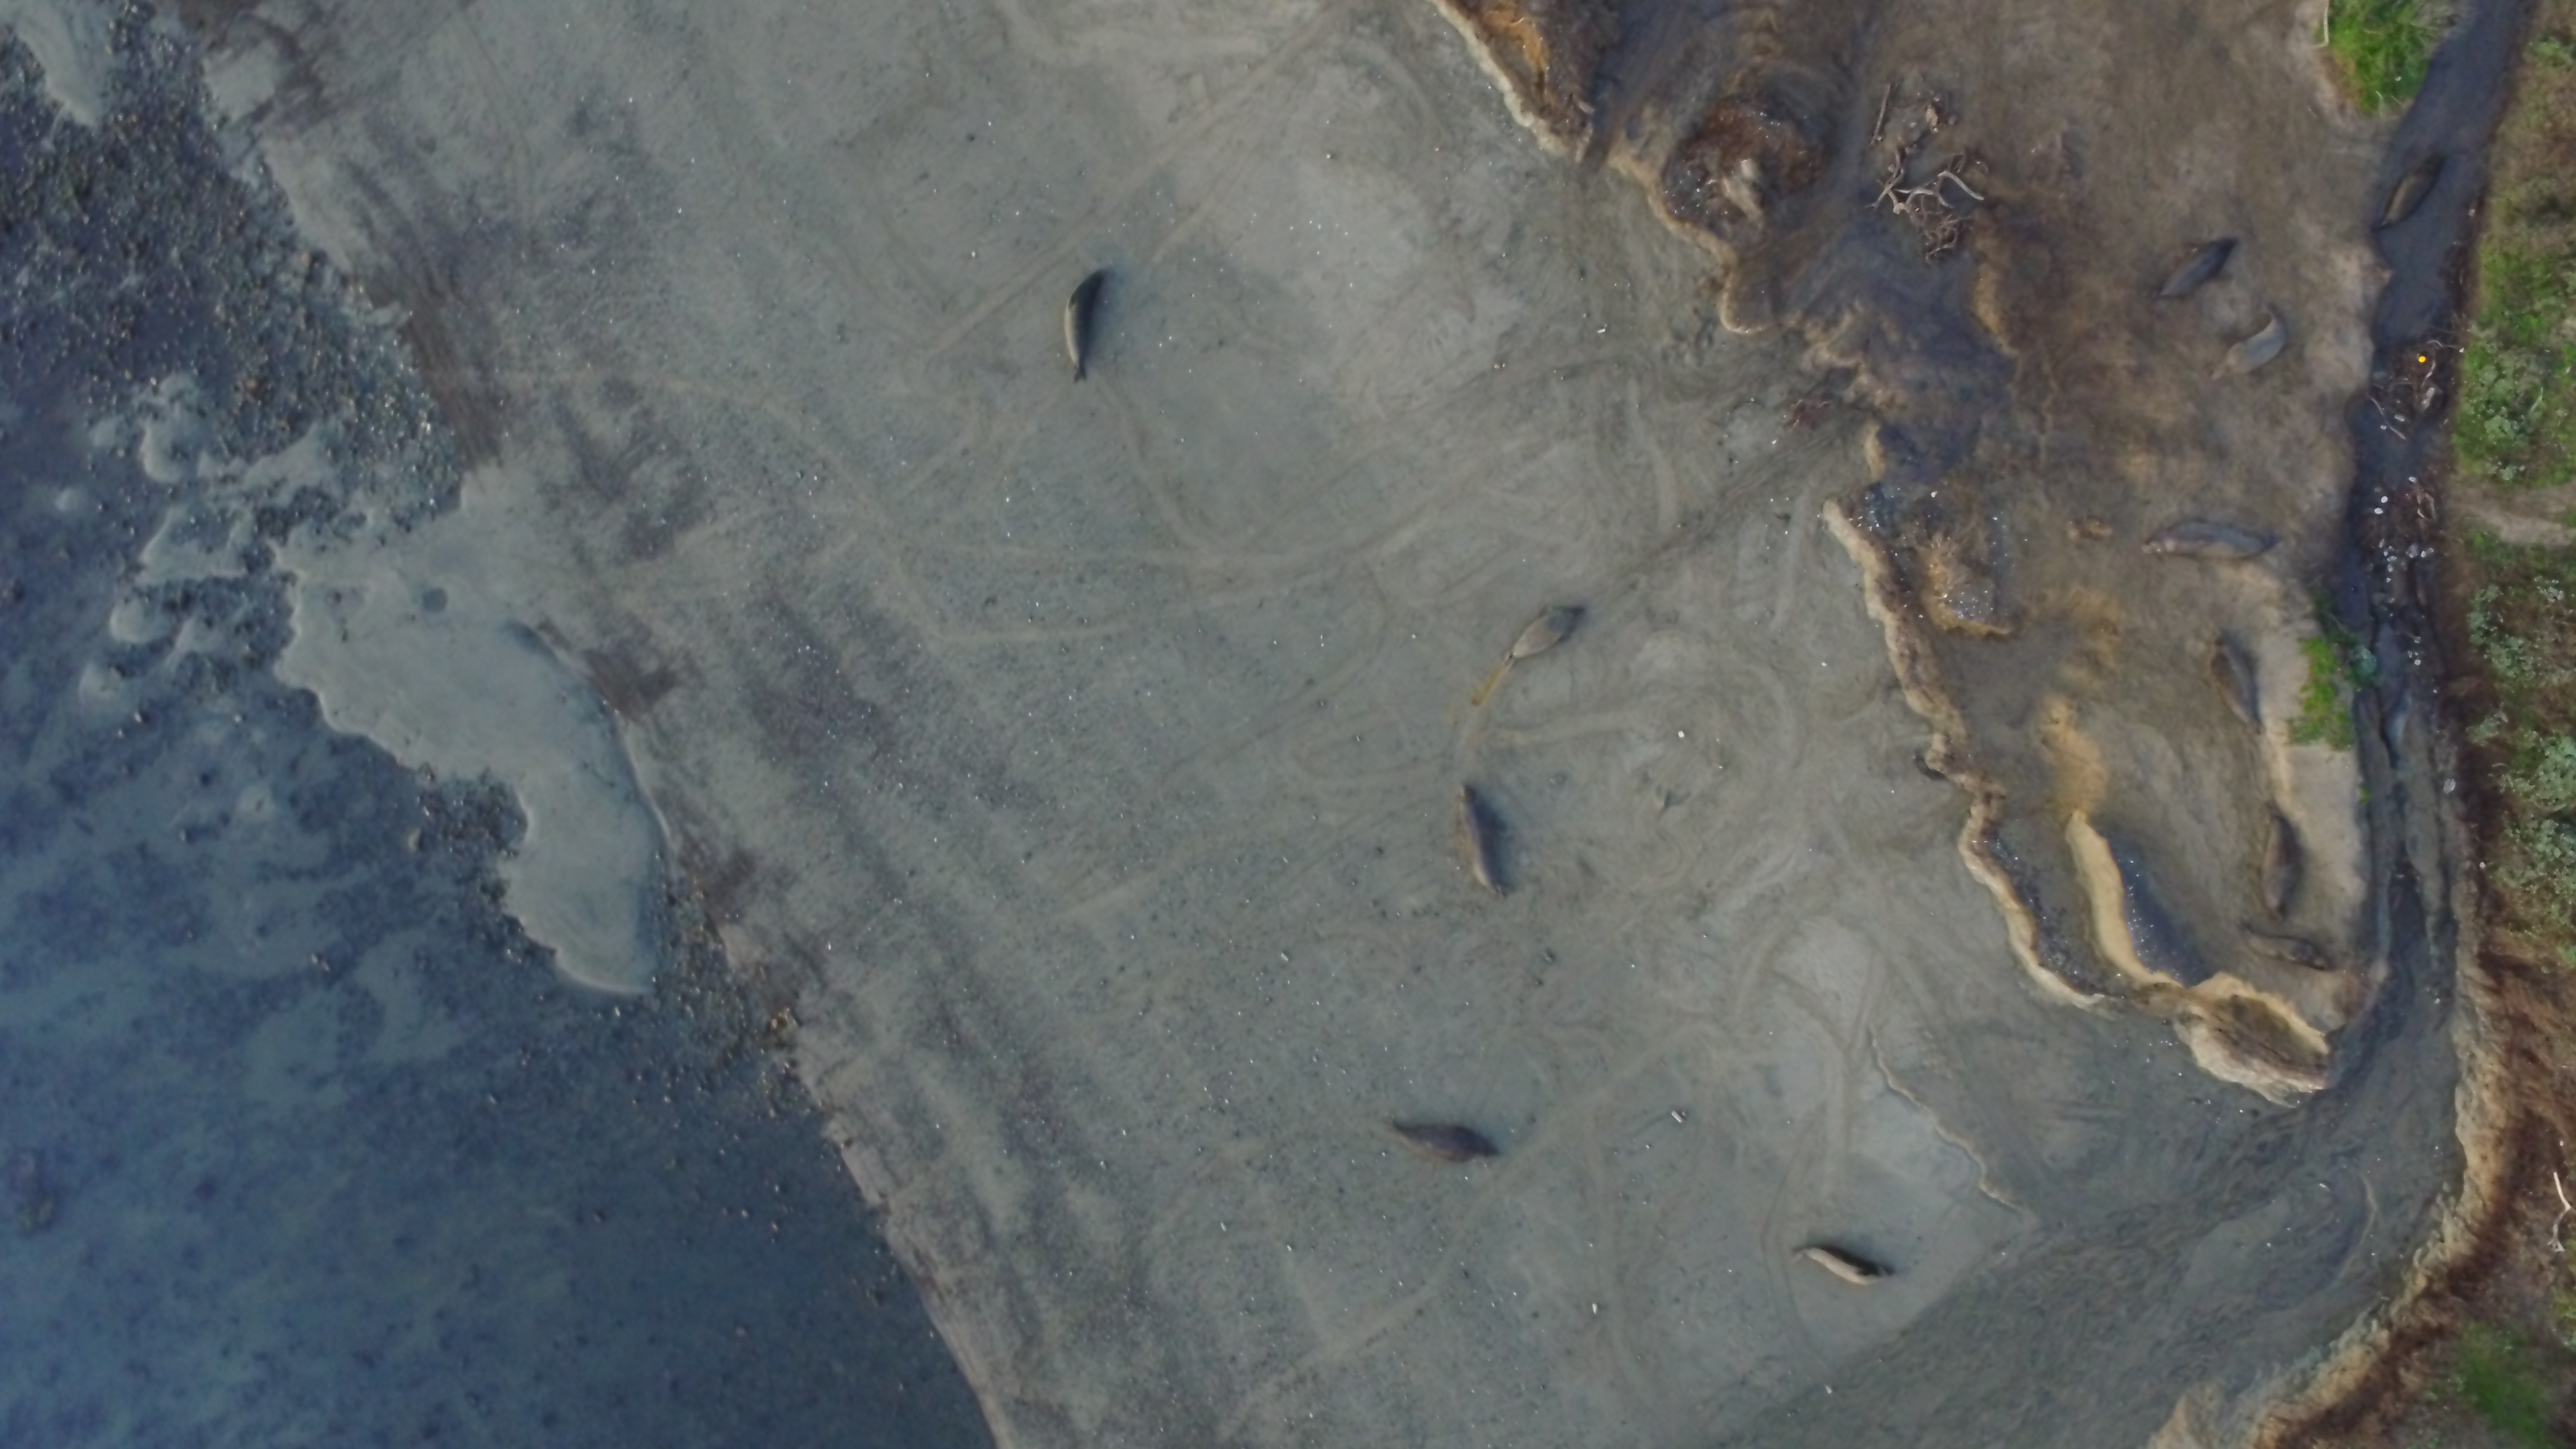adult male: (1449, 782, 1520, 899), (2132, 513, 2284, 561), (2367, 150, 2443, 230)
male juvenile / female juvenile / adult female: (1058, 267, 1122, 391), (1787, 1235, 1920, 1293), (2249, 796, 2307, 927), (2203, 630, 2268, 736), (1490, 596, 1601, 653), (2151, 235, 2242, 297), (2199, 317, 2289, 379), (1392, 1115, 1500, 1162), (2245, 929, 2339, 984), (2387, 674, 2417, 763)
